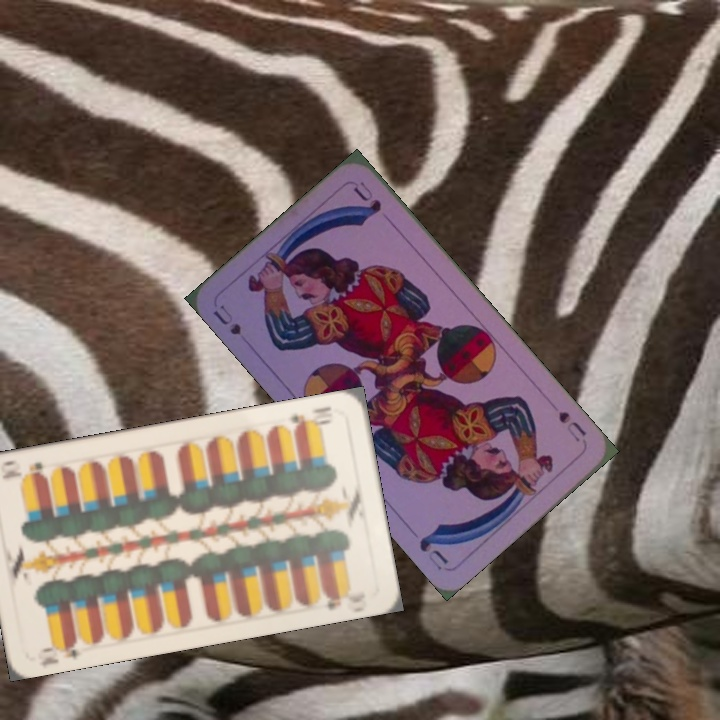E10: (37, 634, 90, 665), (283, 402, 335, 433)
SU: (209, 301, 246, 338), (554, 407, 589, 445)
